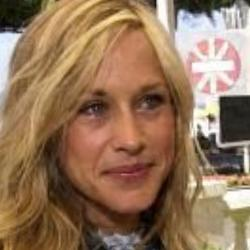face: (3, 2, 213, 232)
